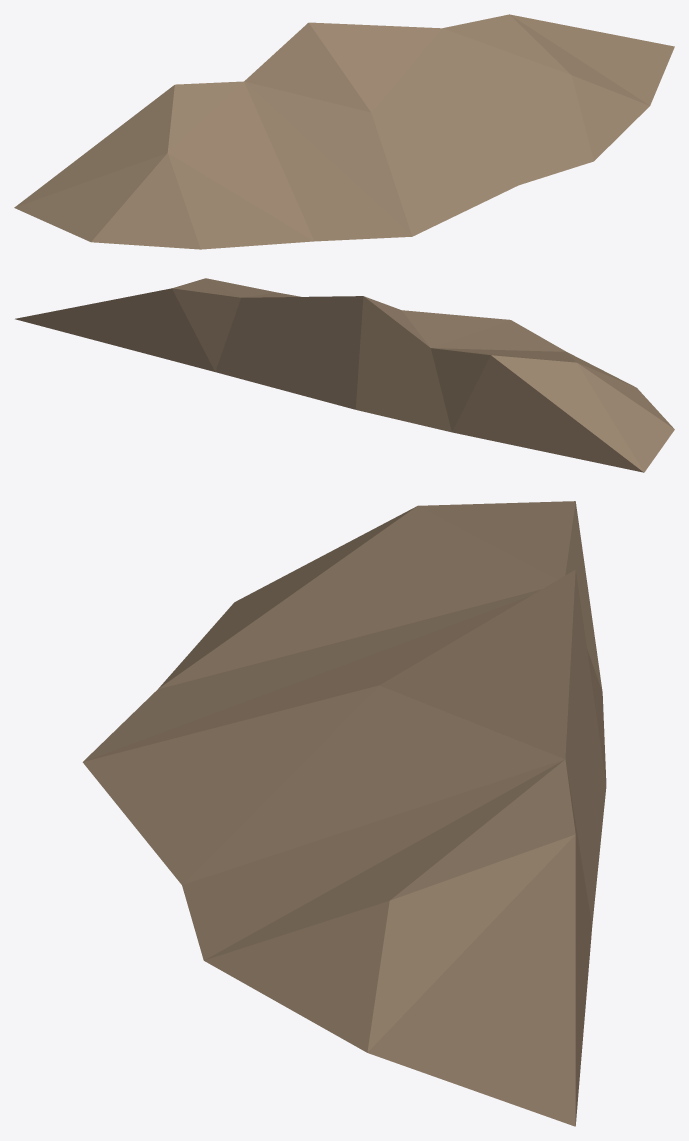
Rendered from SM_Env_SandEdge_01.glb.
3 renders of one model, top to bottom at view 1: azimuth 30°, elevation 25°; view 2: azimuth 150°, elevation 25°; view 3: azimuth 270°, elevation 25°, orthographic. The views are drawn at different scales.
Parts seen in each view (by area): view 1: SM_Env_SandEdge_01; view 2: SM_Env_SandEdge_01; view 3: SM_Env_SandEdge_01.
Boxes of the visible parts, x1,y1,x2,y2 form: SM_Env_SandEdge_01: [14, 14, 674, 249]; SM_Env_SandEdge_01: [15, 278, 674, 472]; SM_Env_SandEdge_01: [82, 501, 606, 1126].
Size of the model in its own units: 4.53 by 0.7426 by 1.63.
1 material, 1 textured.
